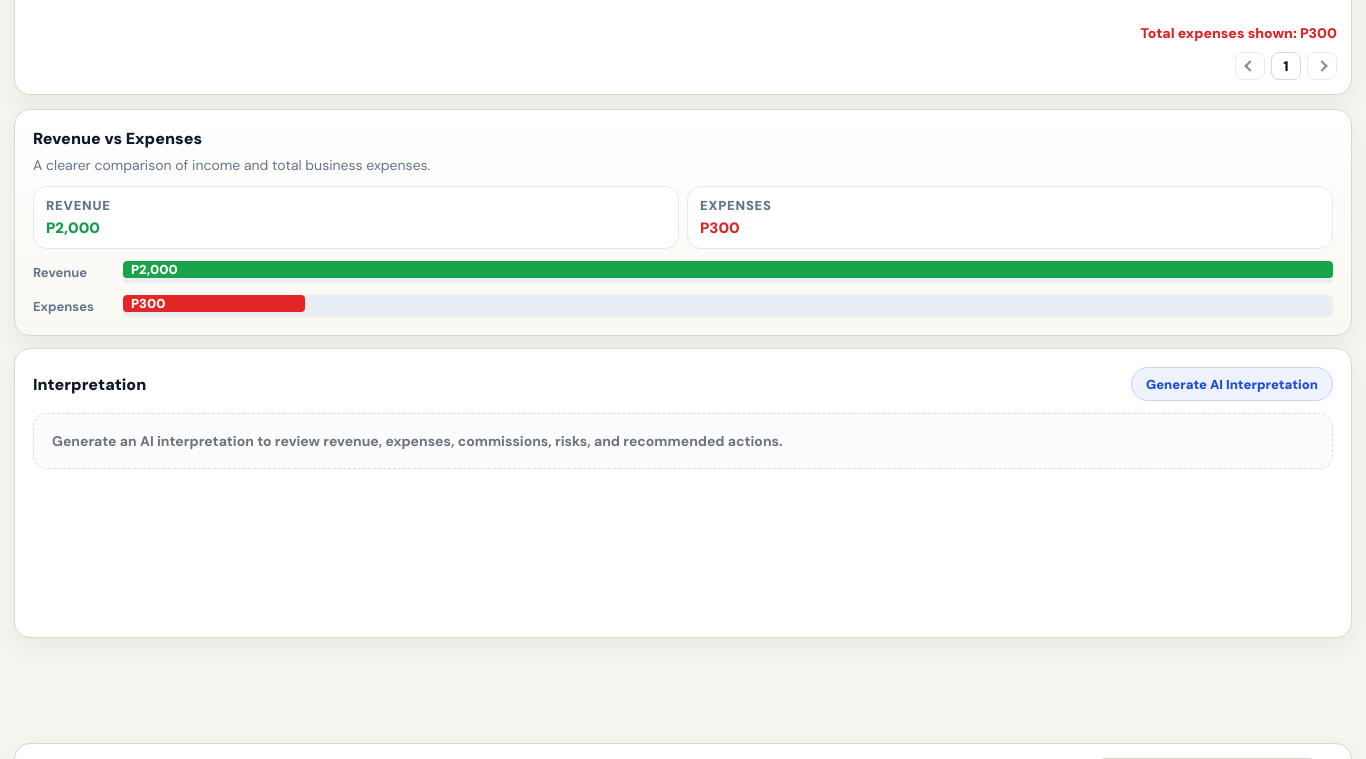
Test: Financial Tracker AI interpretation › clears stale error after a successful retry
(page scrolled)
Click the button "Generate AI Interpretation" at x=1232, y=384, box [1131,367,1333,401]
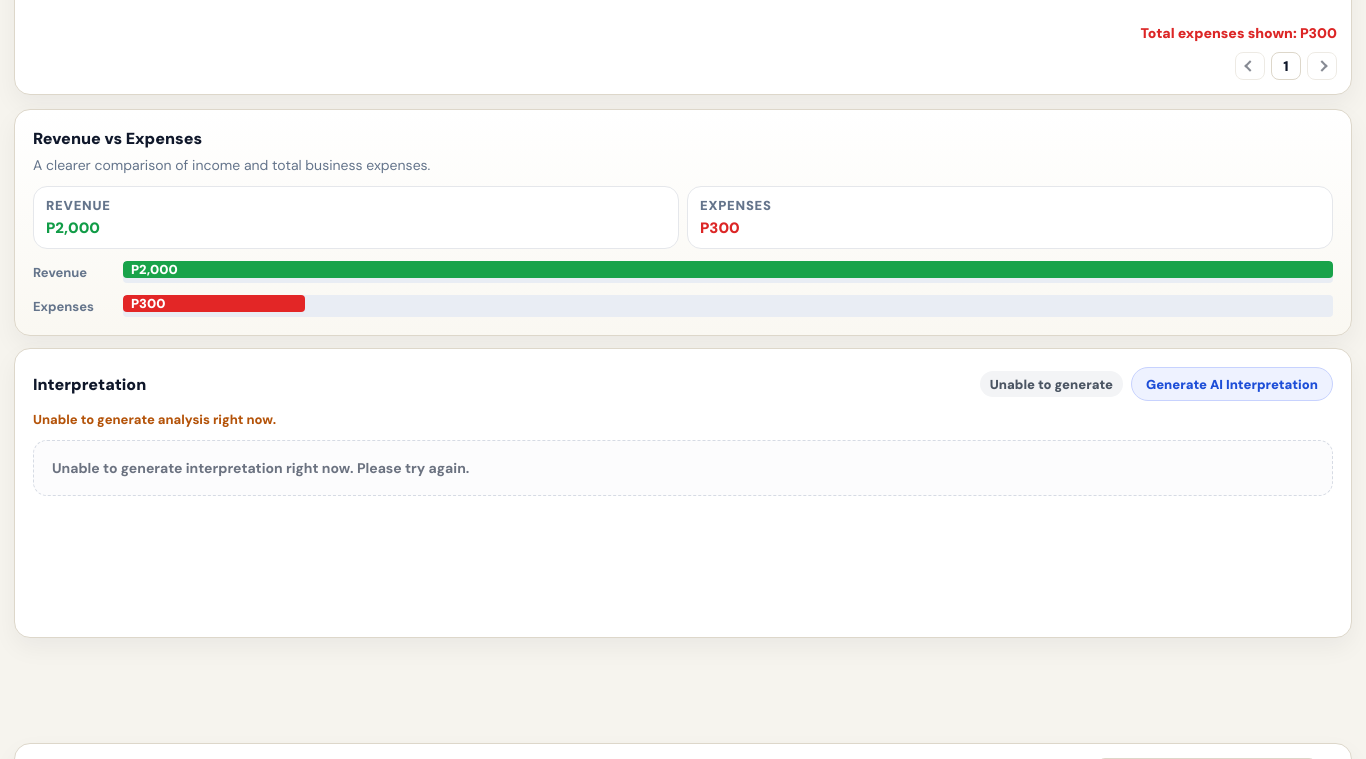
Now the text "Unable to generate analysis right now." is shown, box [33,411,276,428]
Click the button "Generate AI Interpretation" at x=1232, y=384, box [1131,367,1333,401]
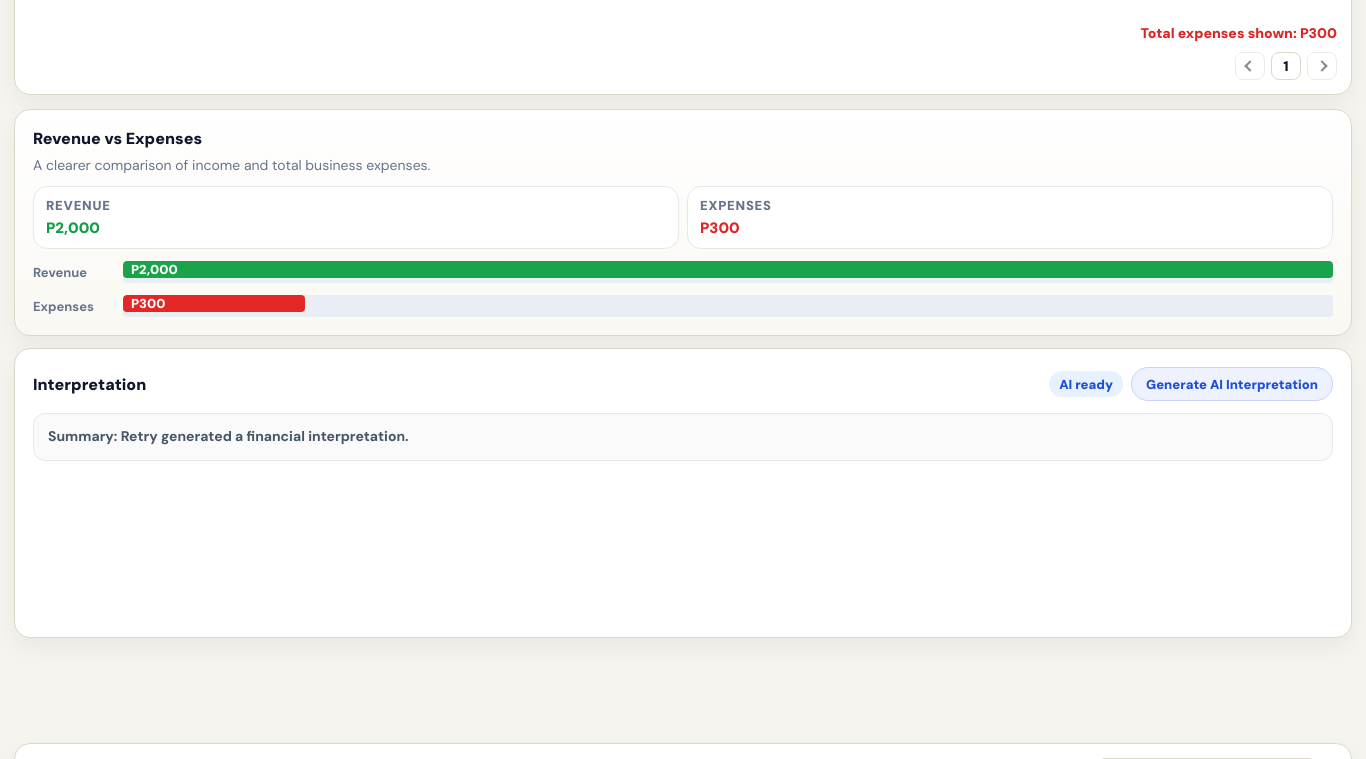
Now the text "Summary: Retry generated a financial interpretation." is shown, box [33,413,1333,461]
Now the text "Unable to generate analysis right now." is gone
